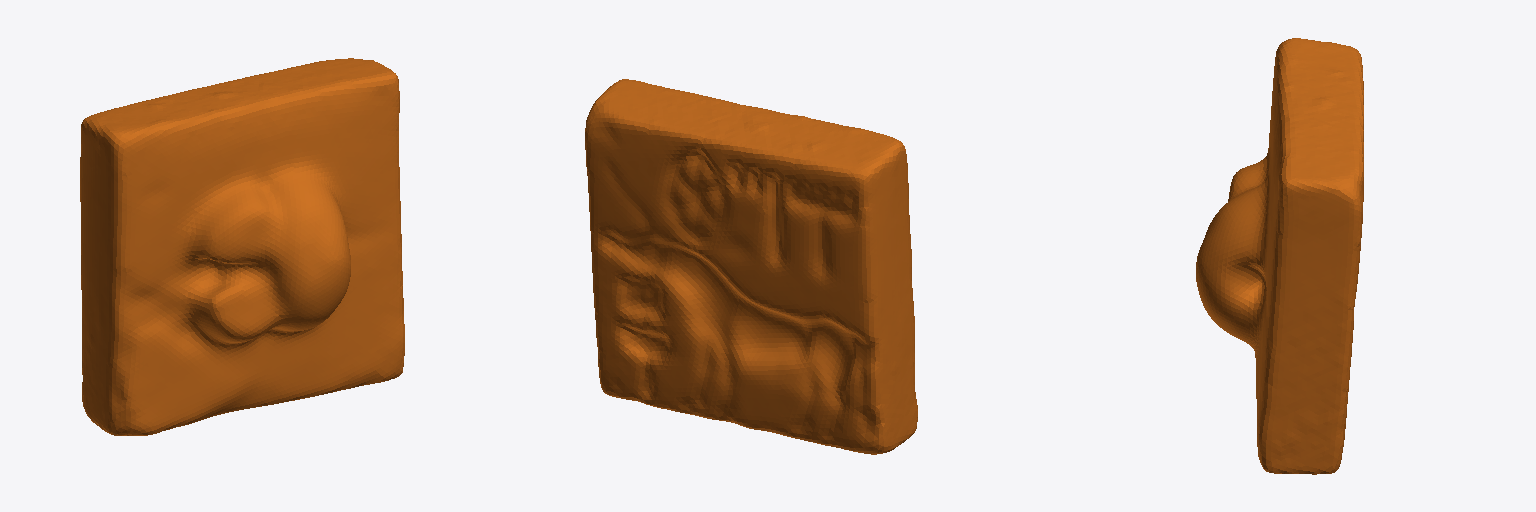
Rendered from sealing1.obj.
3 renders of one model, left to right at view 1: azimuth 30°, elevation 25°; view 2: azimuth 150°, elevation 25°; view 3: azimuth 270°, elevation 25°, orthographic.
Parts seen in each view (by area): view 1: sealing_low; view 2: sealing_low; view 3: sealing_low.
Boxes of the visible parts, x1,y1,x2,y2 form: sealing_low: [80, 58, 404, 435]; sealing_low: [585, 79, 917, 454]; sealing_low: [1196, 38, 1363, 474].
Size of the model in its own units: 27.05 by 26.72 by 13.36.